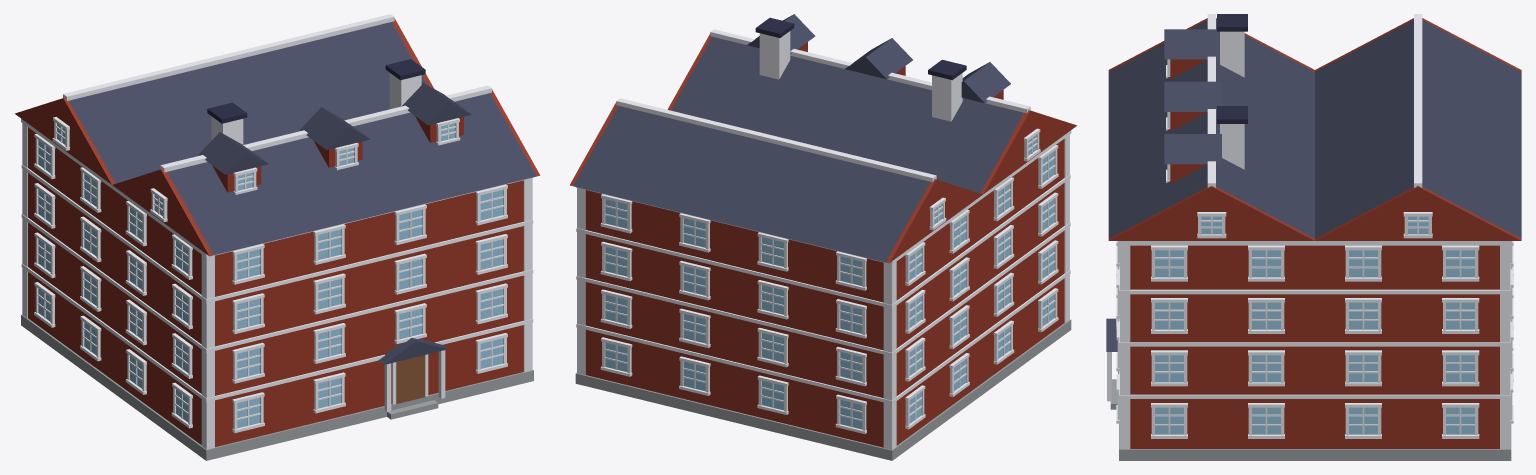
The model's file is house-2x2-4f-stuga-a-solar.glb.
3 renders of one model, left to right at view 1: azimuth 30°, elevation 25°; view 2: azimuth 150°, elevation 25°; view 3: azimuth 270°, elevation 25°, orthographic. The views are drawn at different scales.
Parts seen in each view (by area): view 1: house-2x2-4f-stuga-a-solar; view 2: house-2x2-4f-stuga-a-solar; view 3: house-2x2-4f-stuga-a-solar.
Part boxes in pixels (x1,y1,x2,y2): house-2x2-4f-stuga-a-solar: (15,14,540,460); house-2x2-4f-stuga-a-solar: (570,14,1076,460); house-2x2-4f-stuga-a-solar: (1106,14,1521,460).
Bounding box in the file's own units: 2 × 1.65 × 2.01.
1 material, 1 textured.
